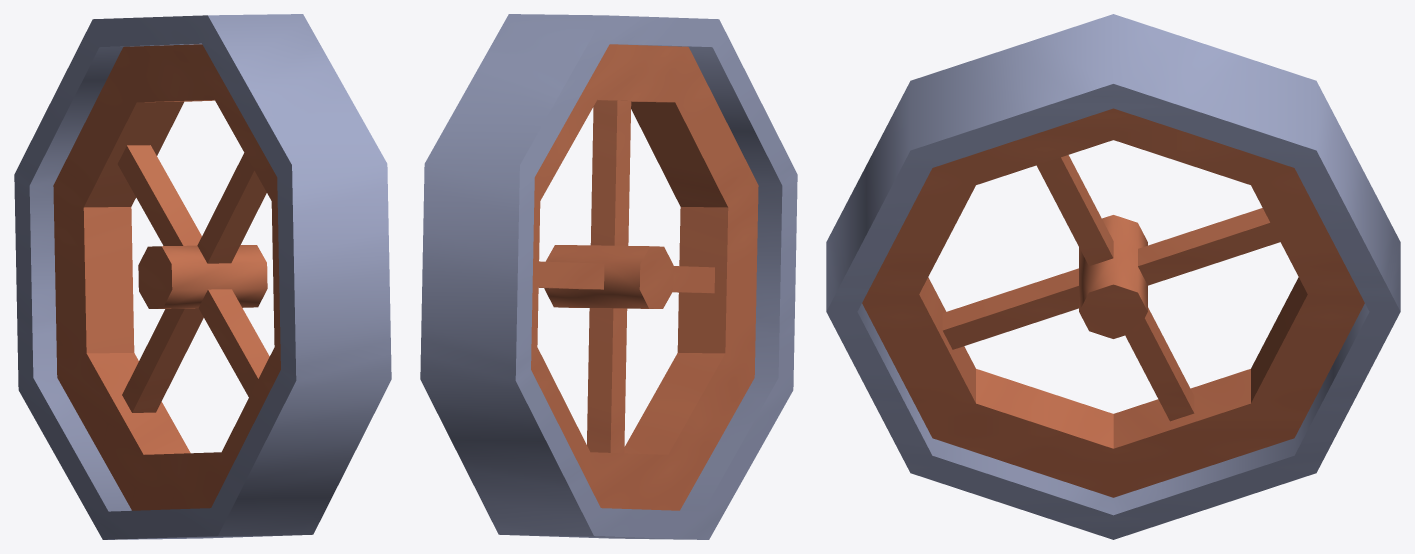
File: wheel.fbx
3 views of the same model, side by side, from view 1: azimuth 30°, elevation 25°; view 2: azimuth 150°, elevation 25°; view 3: azimuth 270°, elevation 25° (orthographic).
Parts seen in each view (by area): view 1: wheel; view 2: wheel; view 3: wheel.
Boxes of the visible parts, left/top/right/bottom form: wheel: left=14, top=14, right=391, bottom=539; wheel: left=420, top=14, right=797, bottom=539; wheel: left=826, top=14, right=1400, bottom=539.
Bounding box in the file's own units: 0.2076 × 0.5063 × 0.5162.
